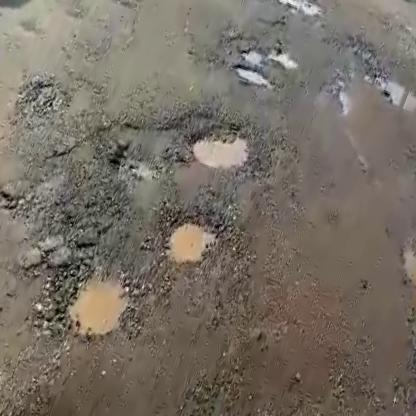pothole: (57, 256, 141, 346), (185, 111, 263, 185), (157, 208, 224, 276), (240, 34, 301, 75), (223, 57, 280, 97), (374, 73, 416, 118), (252, 0, 329, 21)
